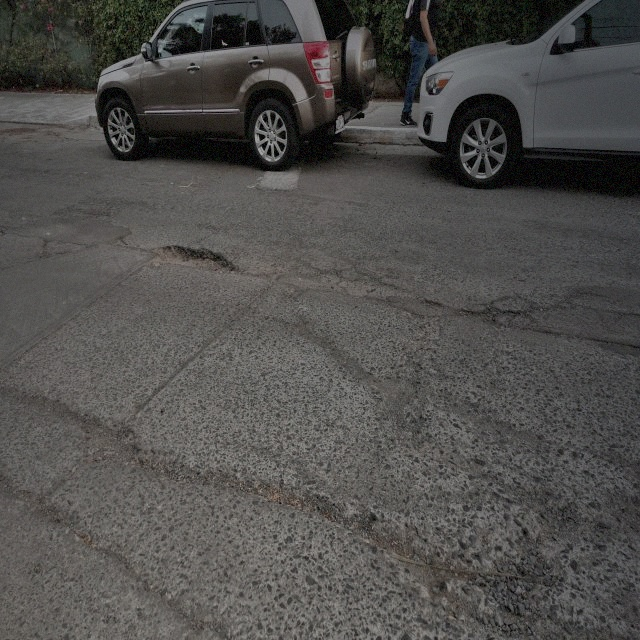pothole: (364, 509, 475, 605), (321, 262, 412, 310), (78, 409, 144, 474), (151, 242, 231, 275), (460, 298, 522, 329)
